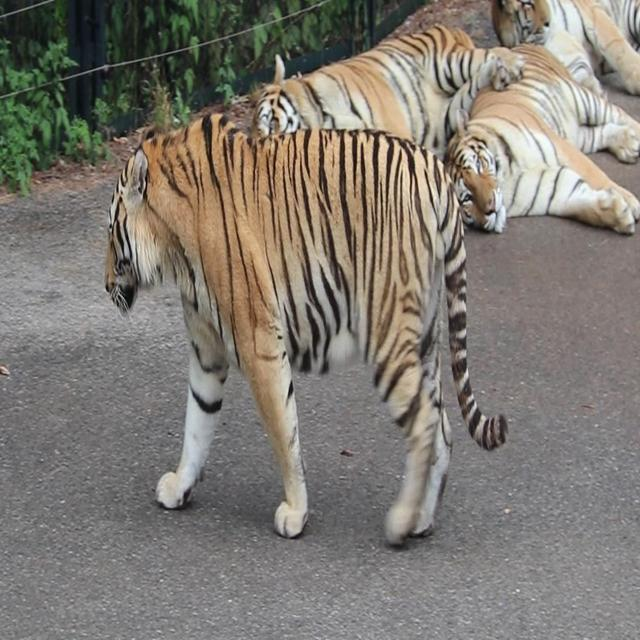tiger: (96, 104, 513, 546), (251, 25, 518, 169), (460, 44, 640, 252), (469, 0, 640, 98)
